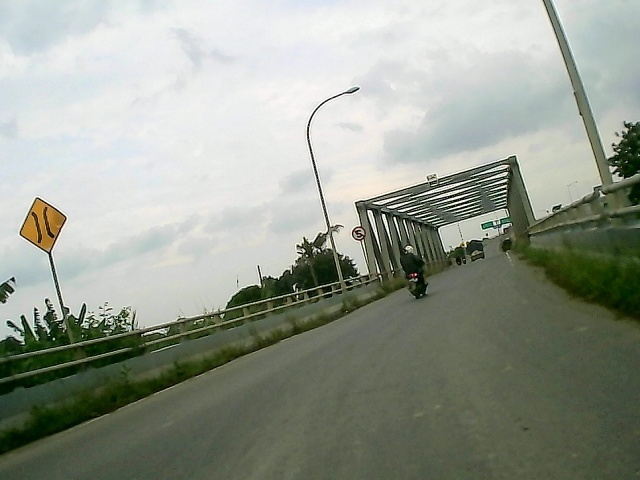Dilarang berhenti: (351, 224, 366, 241)
Jembatan: (17, 194, 66, 256)
